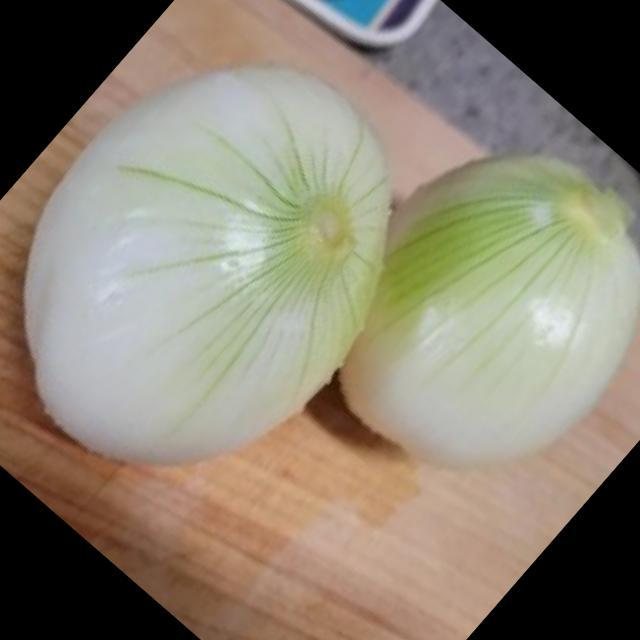Onion: (24, 67, 382, 458), (348, 145, 639, 471)
